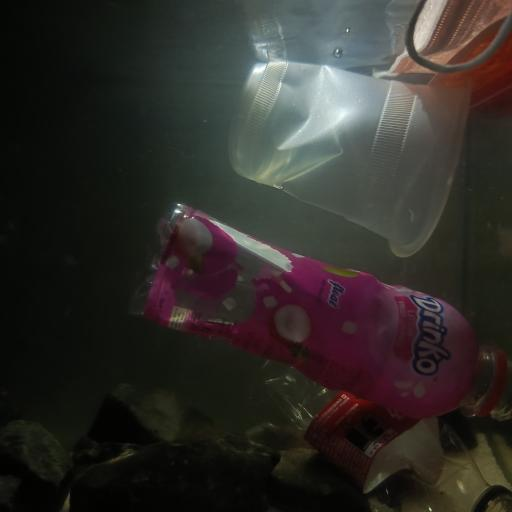mask: (389, 0, 512, 111)
plastic_bottle: (124, 206, 510, 423), (255, 353, 512, 512)
plastic_cup: (228, 56, 483, 256)
